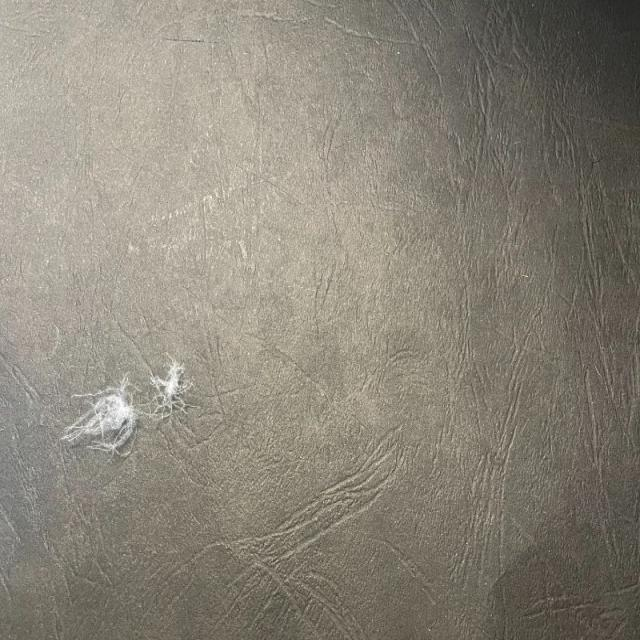feather: (57, 377, 139, 459), (139, 361, 188, 421)
